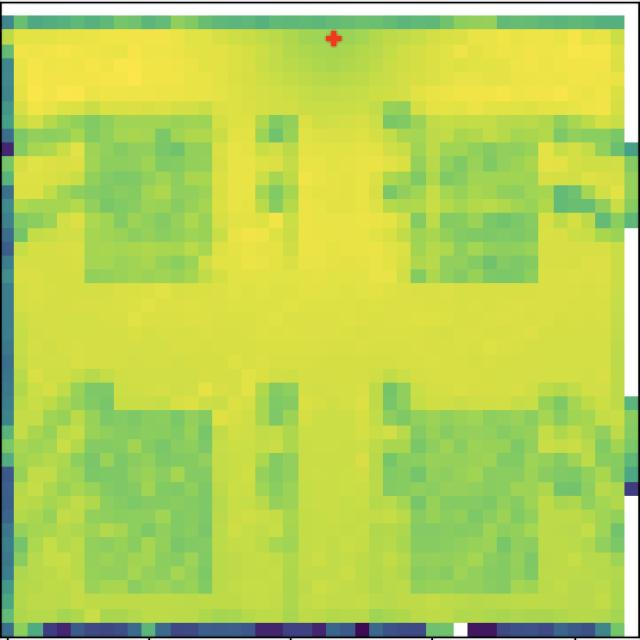Concrete: (405, 408, 543, 595)
Glass: (85, 410, 214, 596)
Metal: (407, 116, 542, 284)
Wood: (82, 103, 218, 289)
